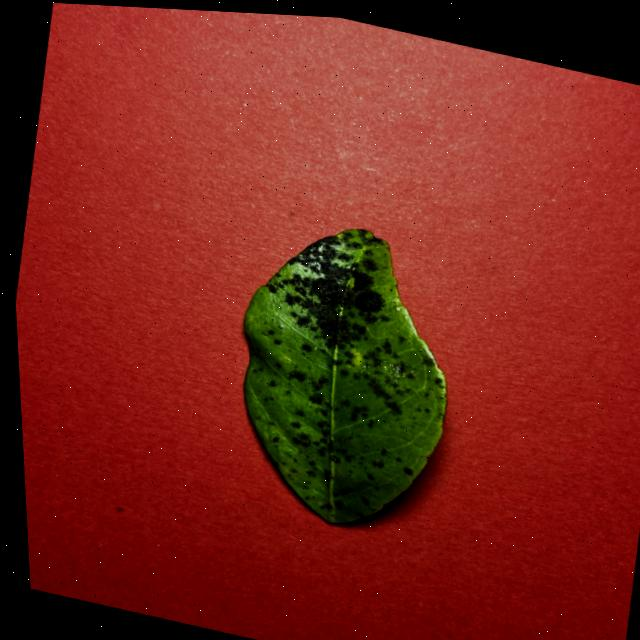sooty_mold: (243, 228, 445, 507)
